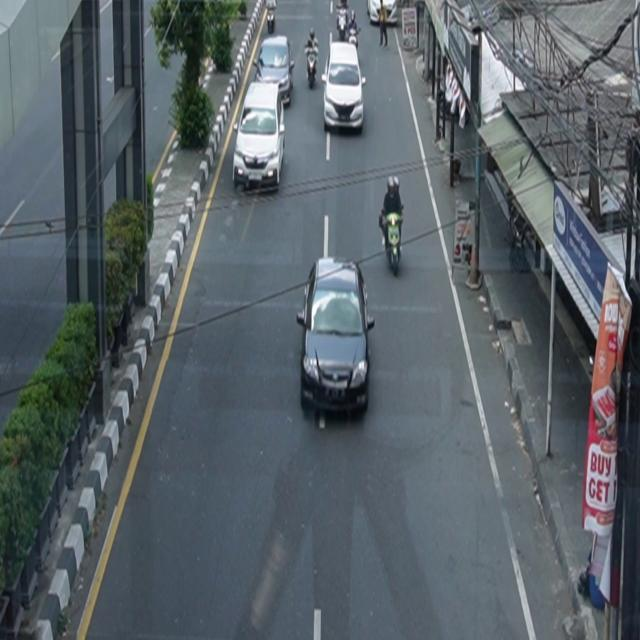car: (297, 257, 376, 420), (233, 81, 286, 192), (322, 42, 367, 135), (255, 36, 296, 107)
